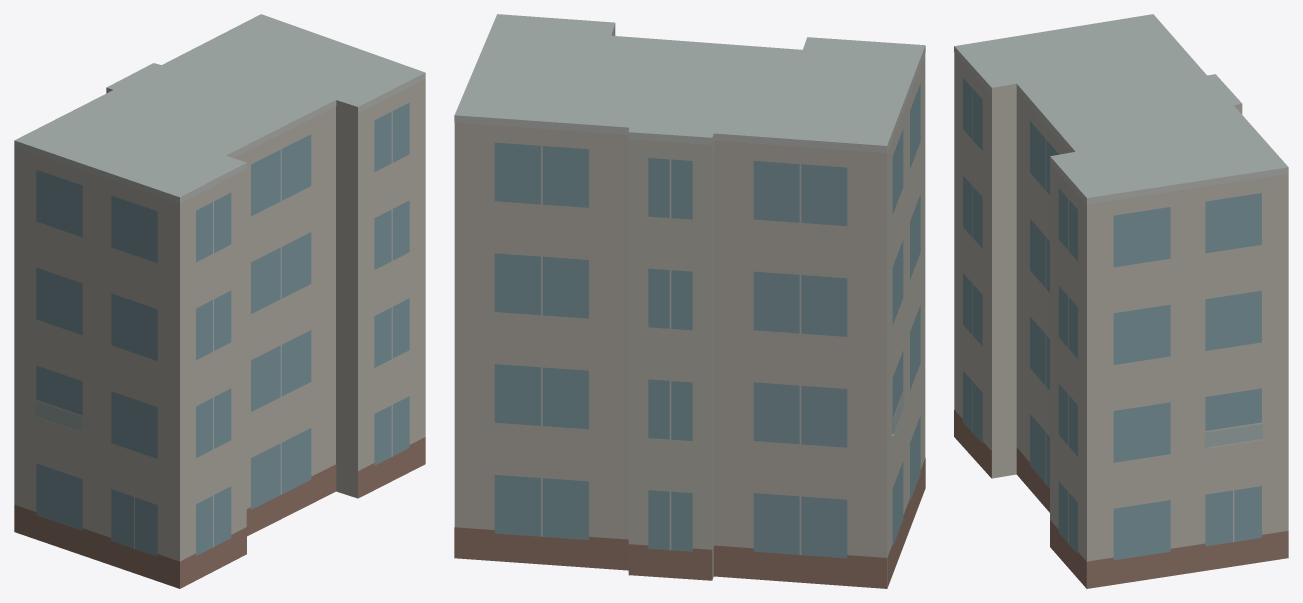
The model's file is survey-upis-32750879.glb.
3 renders of one model, left to right at view 1: azimuth 30°, elevation 25°; view 2: azimuth 150°, elevation 25°; view 3: azimuth 270°, elevation 25°, orthographic. The views are drawn at different scales.
Visible parts, largest first — view 1: survey-upis-32750879.tmp; view 2: survey-upis-32750879.tmp; view 3: survey-upis-32750879.tmp.
Boxes of the visible parts, left/top/right/bottom form: survey-upis-32750879.tmp: left=14, top=14, right=425, bottom=588; survey-upis-32750879.tmp: left=454, top=14, right=925, bottom=588; survey-upis-32750879.tmp: left=954, top=14, right=1288, bottom=588.
Size of the model in its own units: 15.17 by 15 by 11.65.
